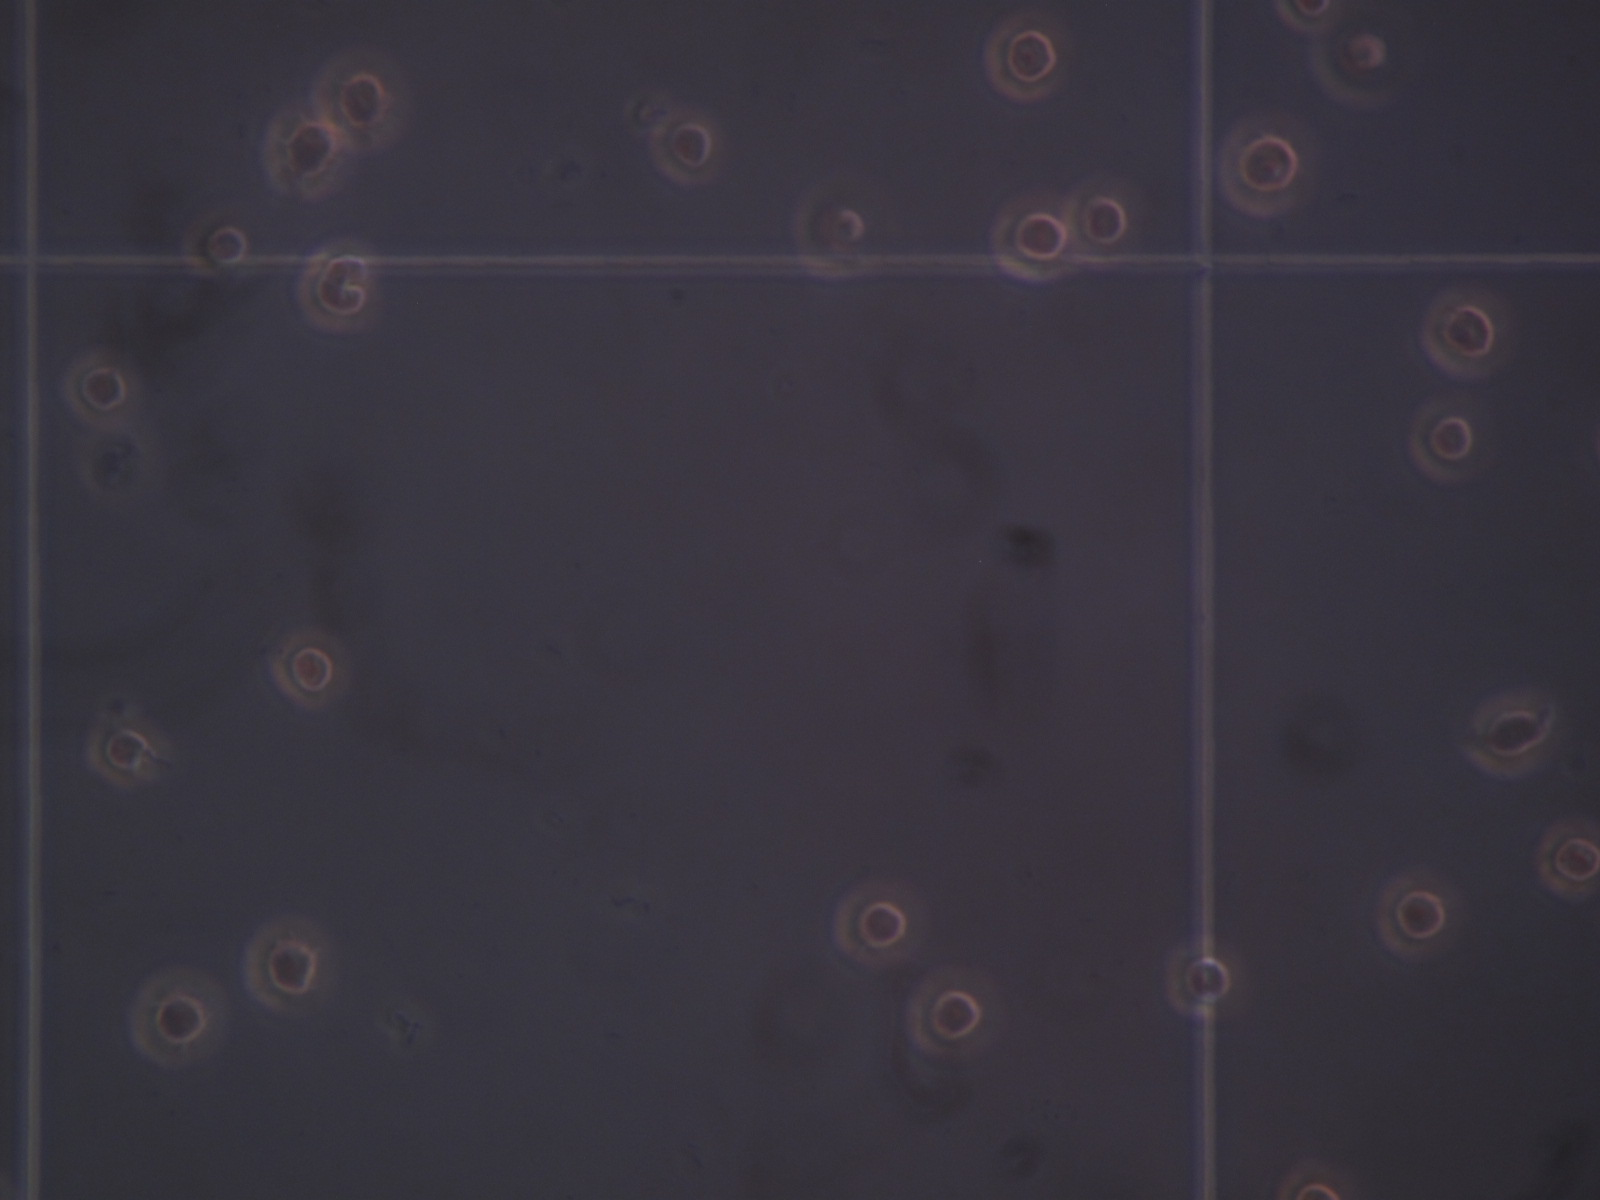hemo: (129, 967, 227, 1066), (310, 53, 406, 153), (1218, 117, 1313, 217), (243, 915, 336, 1016), (906, 967, 1000, 1058), (1461, 691, 1557, 778), (1421, 287, 1511, 378), (990, 192, 1078, 282), (833, 877, 922, 966), (295, 241, 377, 332), (792, 184, 869, 280), (262, 112, 345, 199), (981, 19, 1063, 102), (1067, 176, 1141, 266), (1310, 29, 1393, 107), (1376, 871, 1450, 957), (648, 110, 722, 185), (1407, 400, 1474, 483), (1165, 942, 1233, 1018), (63, 352, 130, 429), (1536, 819, 1600, 897), (181, 209, 249, 282), (270, 637, 335, 708), (84, 718, 150, 787), (1276, 1168, 1346, 1200), (1275, 1, 1338, 33)
